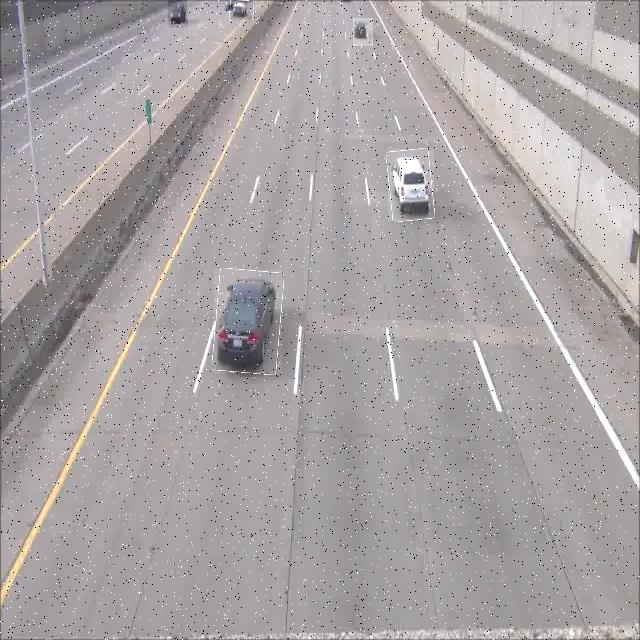Car: (214, 269, 282, 374), (388, 149, 434, 221), (168, 0, 188, 28), (353, 18, 373, 46), (229, 0, 253, 20)
